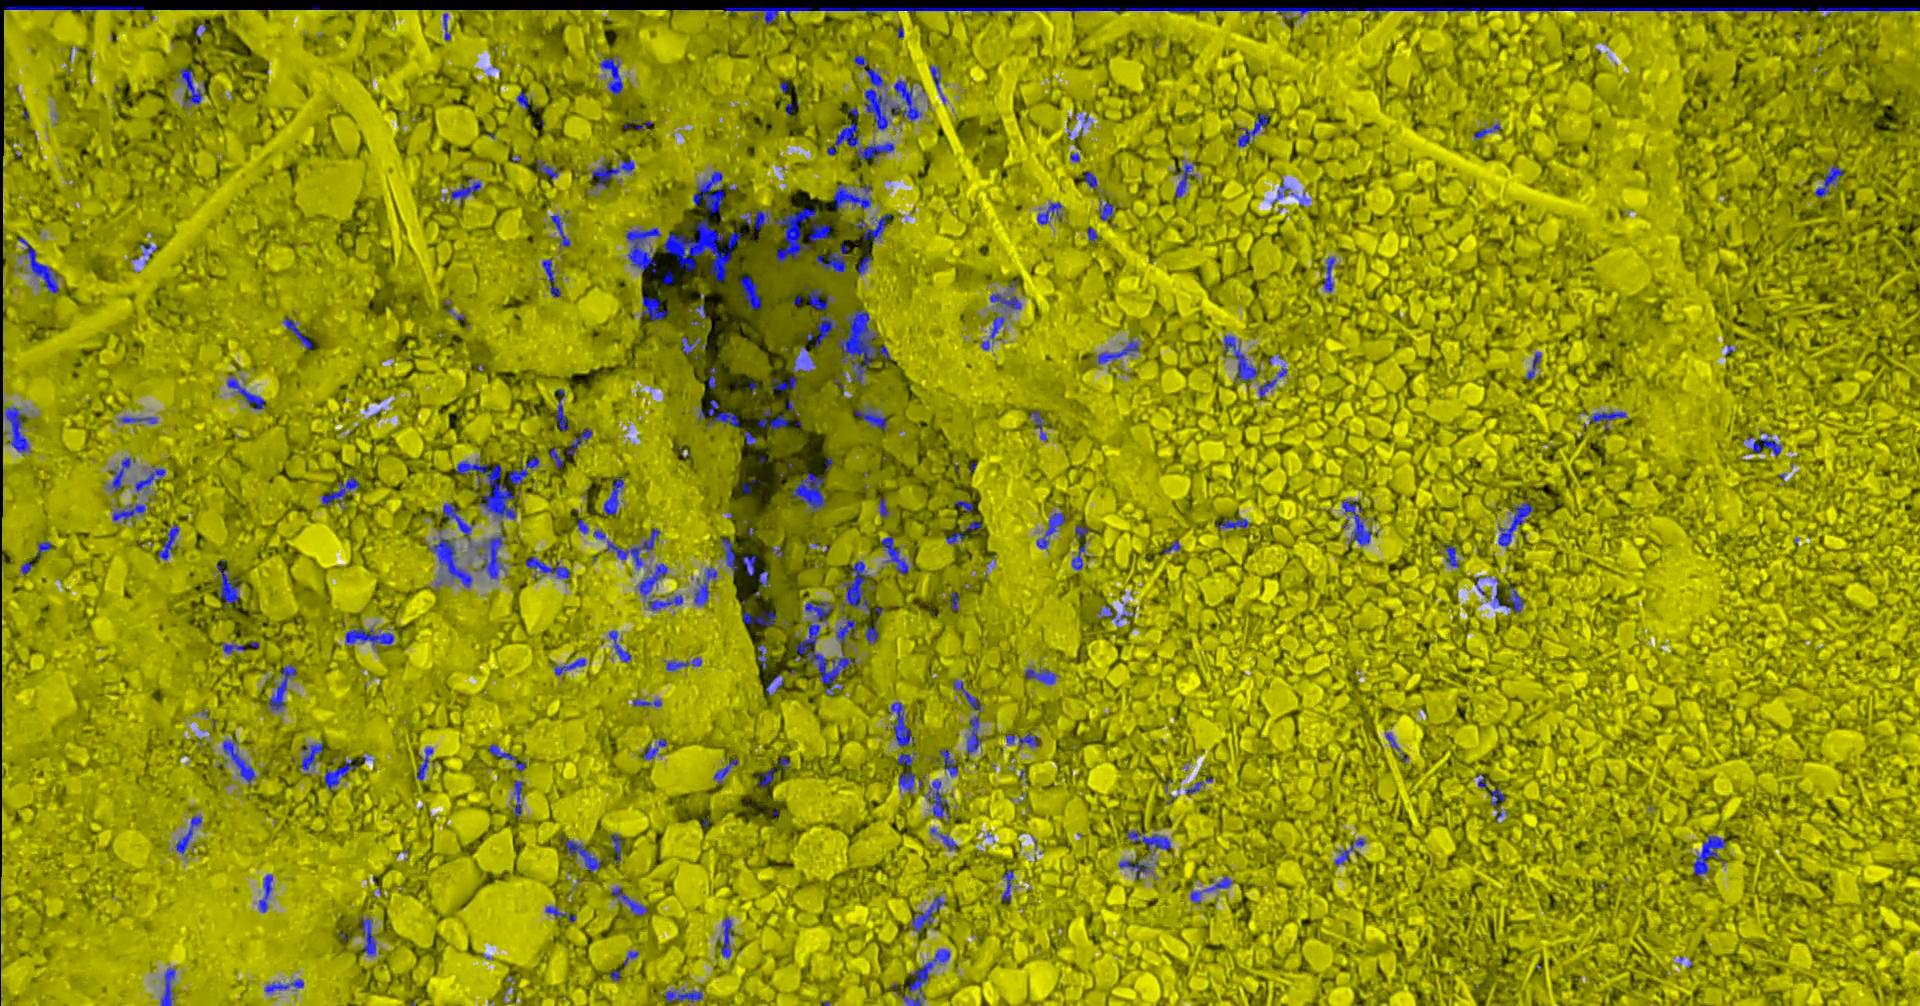ant: (853, 55, 890, 130), (902, 948, 949, 1005), (827, 119, 894, 159), (17, 236, 58, 293), (427, 537, 472, 587), (606, 527, 659, 569), (625, 227, 660, 273), (1223, 335, 1258, 380), (1497, 502, 1531, 547), (222, 739, 255, 785), (841, 560, 869, 611), (692, 170, 724, 215), (226, 373, 265, 409), (791, 473, 825, 513), (1691, 835, 1724, 876), (1341, 500, 1371, 545), (889, 79, 921, 119), (268, 664, 296, 710), (697, 398, 739, 427), (442, 502, 474, 540), (590, 159, 634, 187), (910, 895, 943, 931), (1490, 578, 1523, 612), (565, 840, 599, 873), (1190, 875, 1232, 902), (321, 476, 359, 506), (4, 406, 28, 452), (1097, 337, 1138, 363), (855, 213, 891, 243), (880, 536, 908, 574), (832, 183, 871, 210), (1237, 113, 1269, 146), (611, 887, 648, 915), (479, 533, 502, 578), (771, 358, 803, 390), (637, 563, 667, 597), (323, 760, 357, 789), (1036, 512, 1064, 547), (216, 563, 239, 606), (890, 702, 913, 746), (282, 318, 312, 349), (175, 815, 201, 854), (1258, 365, 1288, 398), (524, 556, 569, 578), (924, 780, 949, 819), (3, 4, 143, 10), (345, 627, 392, 647), (508, 455, 538, 484), (443, 178, 480, 202), (945, 520, 982, 544), (1815, 165, 1843, 197), (952, 680, 980, 711), (1126, 829, 1170, 850), (599, 57, 622, 95), (693, 567, 716, 605), (817, 243, 846, 272), (1335, 837, 1365, 865), (179, 67, 202, 104), (110, 457, 135, 492), (1816, 6, 1919, 14), (603, 476, 623, 514), (157, 523, 179, 559), (855, 406, 888, 429), (564, 428, 592, 455), (1173, 163, 1195, 197), (135, 467, 165, 492), (640, 295, 667, 321), (1589, 412, 1625, 431), (542, 258, 560, 297), (739, 276, 761, 307), (757, 409, 789, 431), (608, 630, 630, 662), (1752, 433, 1782, 456), (112, 502, 146, 521), (930, 64, 946, 103), (712, 757, 737, 784), (550, 213, 569, 246), (720, 537, 737, 575), (300, 742, 323, 768), (930, 827, 956, 850), (554, 387, 568, 431), (359, 917, 375, 956), (717, 917, 733, 956), (1117, 860, 1149, 878), (160, 968, 175, 1005), (966, 715, 980, 754), (264, 978, 303, 992), (1036, 202, 1062, 224), (1004, 730, 1037, 747), (937, 748, 957, 775), (545, 904, 575, 922), (664, 988, 702, 1002), (554, 658, 585, 674), (648, 594, 682, 610), (417, 746, 432, 780), (1029, 410, 1046, 439), (258, 874, 272, 911), (836, 616, 855, 643), (742, 610, 775, 625), (1102, 606, 1130, 624), (643, 738, 665, 760), (989, 293, 1021, 309), (1023, 668, 1055, 683), (681, 335, 705, 354), (665, 657, 701, 669), (999, 869, 1013, 901), (808, 288, 829, 309), (757, 766, 777, 788), (535, 159, 557, 178), (1322, 257, 1335, 291), (1441, 544, 1459, 567), (488, 744, 514, 760), (1185, 777, 1211, 793), (1526, 351, 1540, 379), (610, 833, 623, 861), (1473, 123, 1498, 138), (1070, 542, 1084, 569), (898, 771, 914, 793), (989, 315, 1004, 338), (1215, 518, 1248, 528), (513, 780, 522, 817), (857, 251, 871, 273), (549, 447, 563, 469), (742, 554, 756, 575), (863, 621, 877, 643), (1490, 788, 1505, 807), (623, 119, 651, 130), (516, 91, 531, 109), (742, 479, 759, 494), (36, 541, 51, 559), (1098, 201, 1112, 220), (1162, 539, 1180, 553), (757, 643, 766, 669), (119, 417, 156, 423), (221, 643, 244, 653), (632, 699, 662, 706), (877, 497, 888, 517), (952, 500, 973, 511), (442, 13, 450, 39), (1074, 525, 1088, 539), (897, 751, 910, 765), (949, 591, 959, 610), (1084, 171, 1096, 188), (743, 431, 756, 445), (662, 269, 673, 285), (707, 366, 715, 387), (777, 757, 789, 768)
